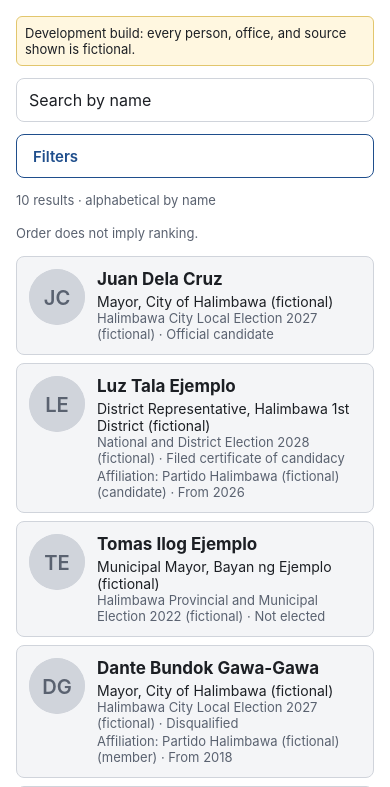
Test: DirectoryView › searches by name after trimming, and shows the results count
Expected: the text "10 results · alphabetical by name" is shown, [16,192,216,208]
Type "  gawa " into the field named "Search politicians by name" at (195, 100), box [16,78,374,122]
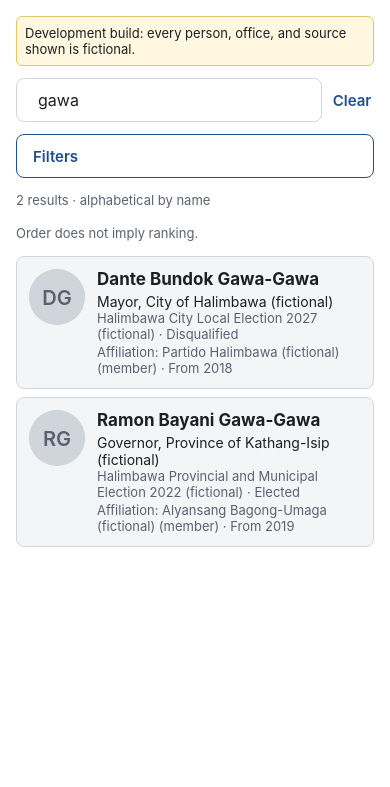
Now the text "2 results · alphabetical by name" is shown, box [16,192,210,208]
